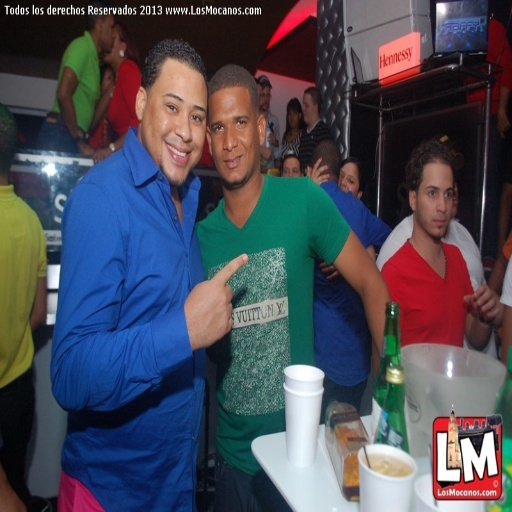hand: (183, 250, 248, 350), (463, 282, 499, 320), (304, 154, 332, 183), (319, 260, 339, 279), (497, 113, 510, 135), (94, 148, 111, 161), (79, 142, 94, 154), (260, 145, 272, 160), (266, 129, 275, 145), (107, 78, 113, 97)
